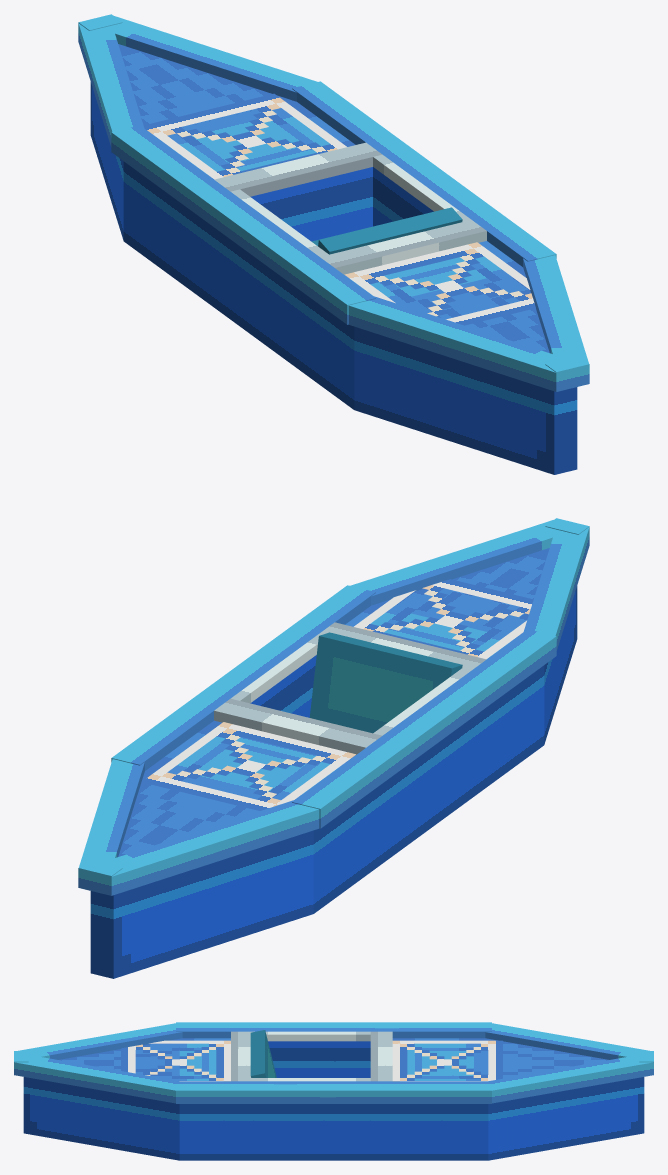
File: kayak.gltf
3 views of the same model, one above another, from view 1: azimuth 30°, elevation 25°; view 2: azimuth 150°, elevation 25°; view 3: azimuth 270°, elevation 25° (orthographic). The views are drawn at different scales.
Parts seen in each view (by area): view 1: cube (×23); view 2: cube (×23); view 3: cube (×21).
Boxes of the visible parts, x1,y1,x2,y2 form: cube (×23): [78, 16, 589, 474]; cube (×23): [78, 520, 589, 978]; cube (×21): [14, 1022, 653, 1160].
Bounding box in the file's own units: 0.825 × 0.4401 × 3.27.
Materials: 2 (2 with a texture image).
